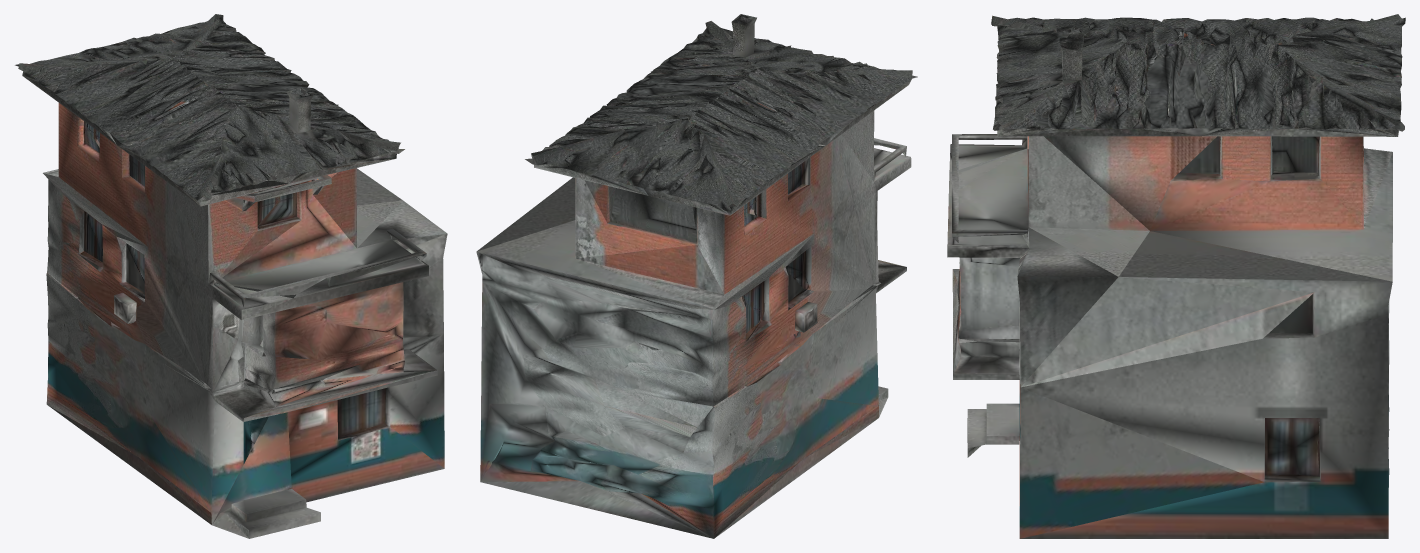
The model's file is fv_house_block.glb.
3 renders of one model, left to right at view 1: azimuth 30°, elevation 25°; view 2: azimuth 150°, elevation 25°; view 3: azimuth 270°, elevation 25°, orthographic. The views are drawn at different scales.
Visible parts, largest first — view 1: fv_house_block; view 2: fv_house_block; view 3: fv_house_block.
Part boxes in pixels (left/top/right/bottom): fv_house_block: left=15, top=14, right=447, bottom=538; fv_house_block: left=476, top=14, right=917, bottom=538; fv_house_block: left=947, top=14, right=1405, bottom=538.
Bounding box in the file's own units: 6.38 × 9 × 8.61.
1 material, 1 textured.
